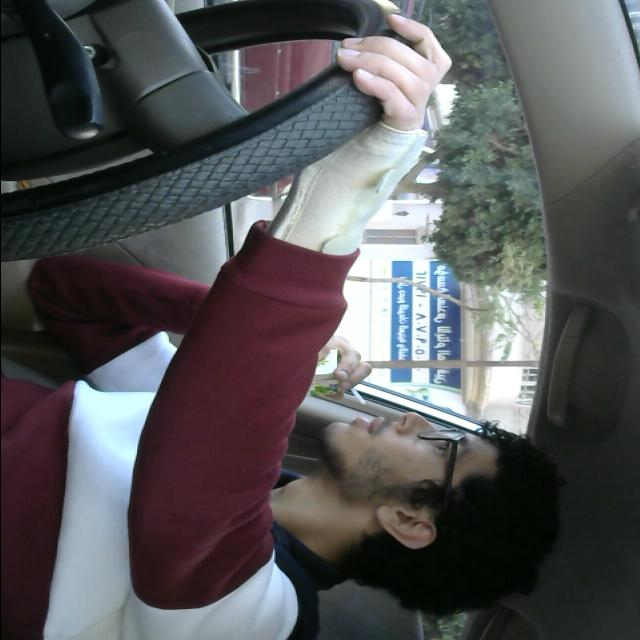drinking: (206, 348, 368, 408)
